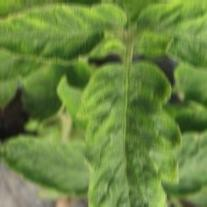Tomato leaf yellow virus: (74, 55, 172, 207), (0, 0, 125, 62), (0, 120, 93, 199), (134, 0, 207, 74), (140, 125, 207, 203)
